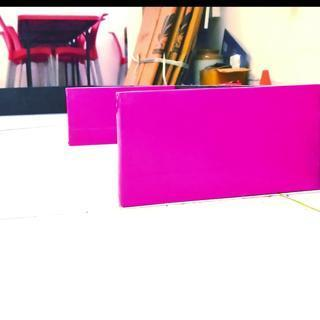xparking: (116, 90, 320, 196), (66, 86, 114, 147)
